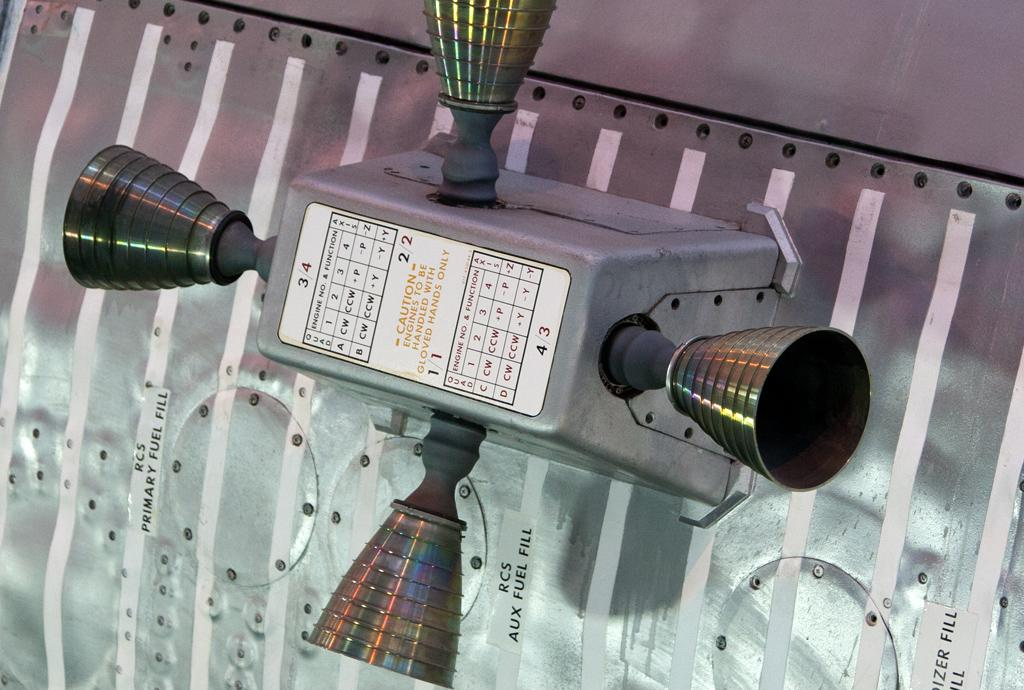thruster: (626, 315, 873, 491), (306, 447, 471, 690), (55, 141, 259, 298), (426, 0, 561, 160)
